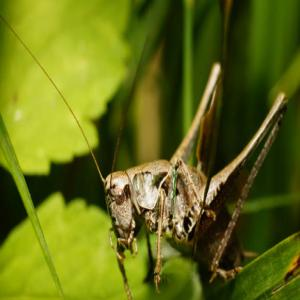locust: (91, 54, 295, 300)
